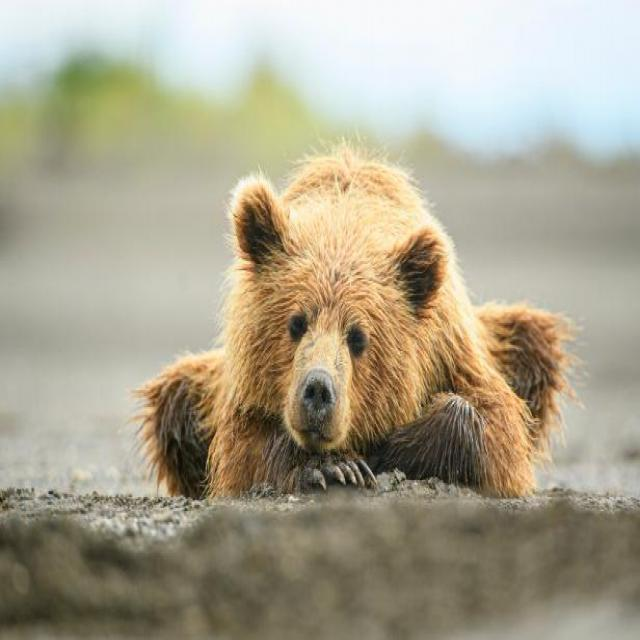Bear: (129, 144, 584, 503)
